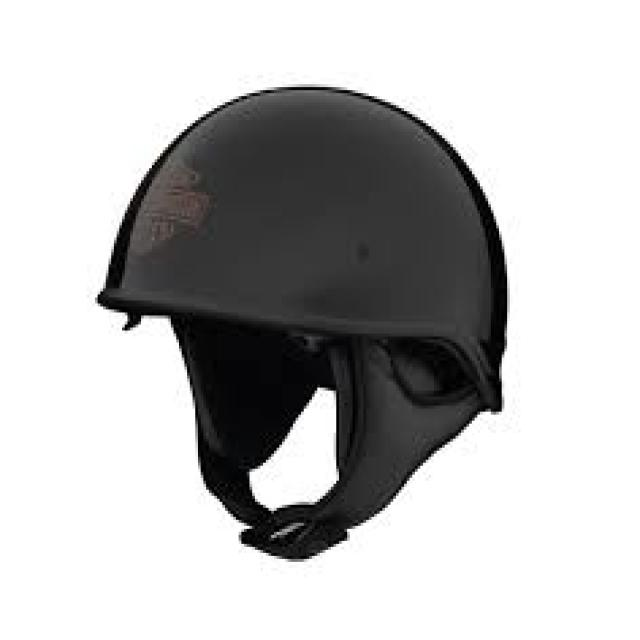Helmet: (76, 79, 532, 417)
